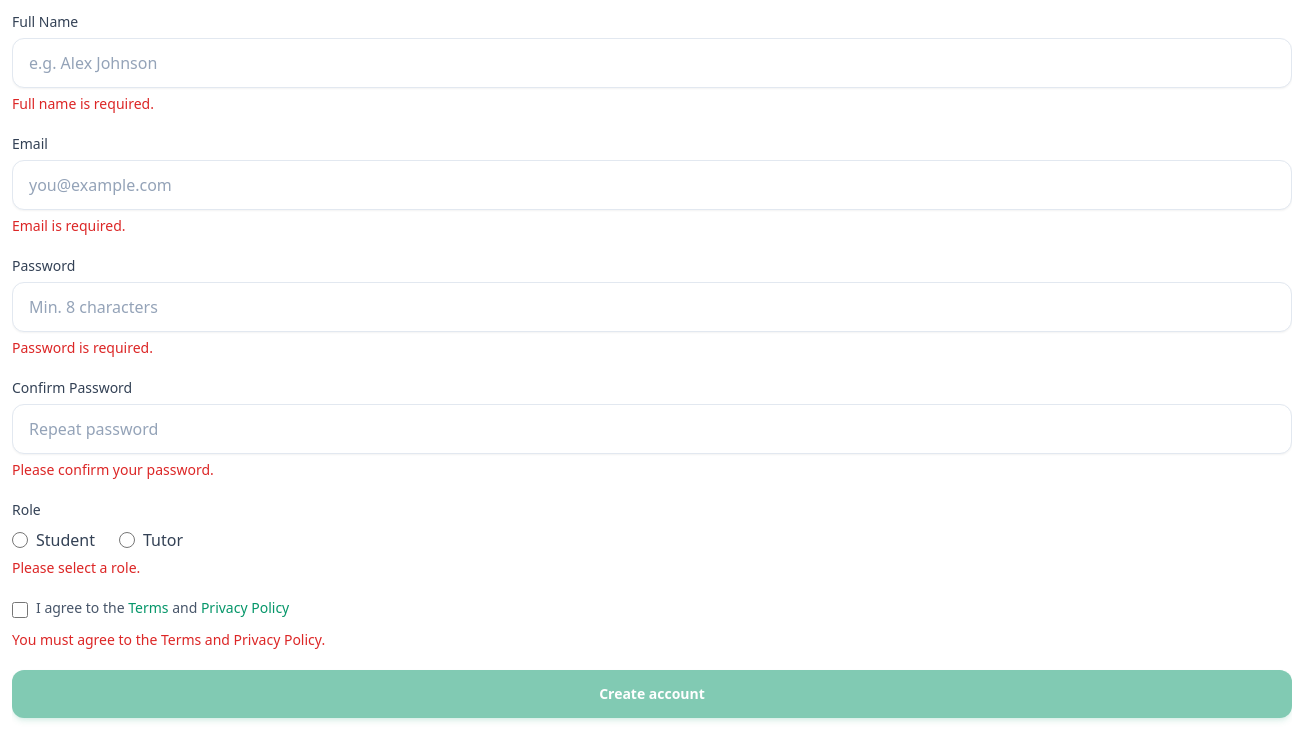
Test: RegisterForm › enables submit button when all fields are valid (FR1)
Type "Alice Student" into the field labelled "Full Name".
click(652, 63); type("Alice Student")  # box [12,38,1292,88]
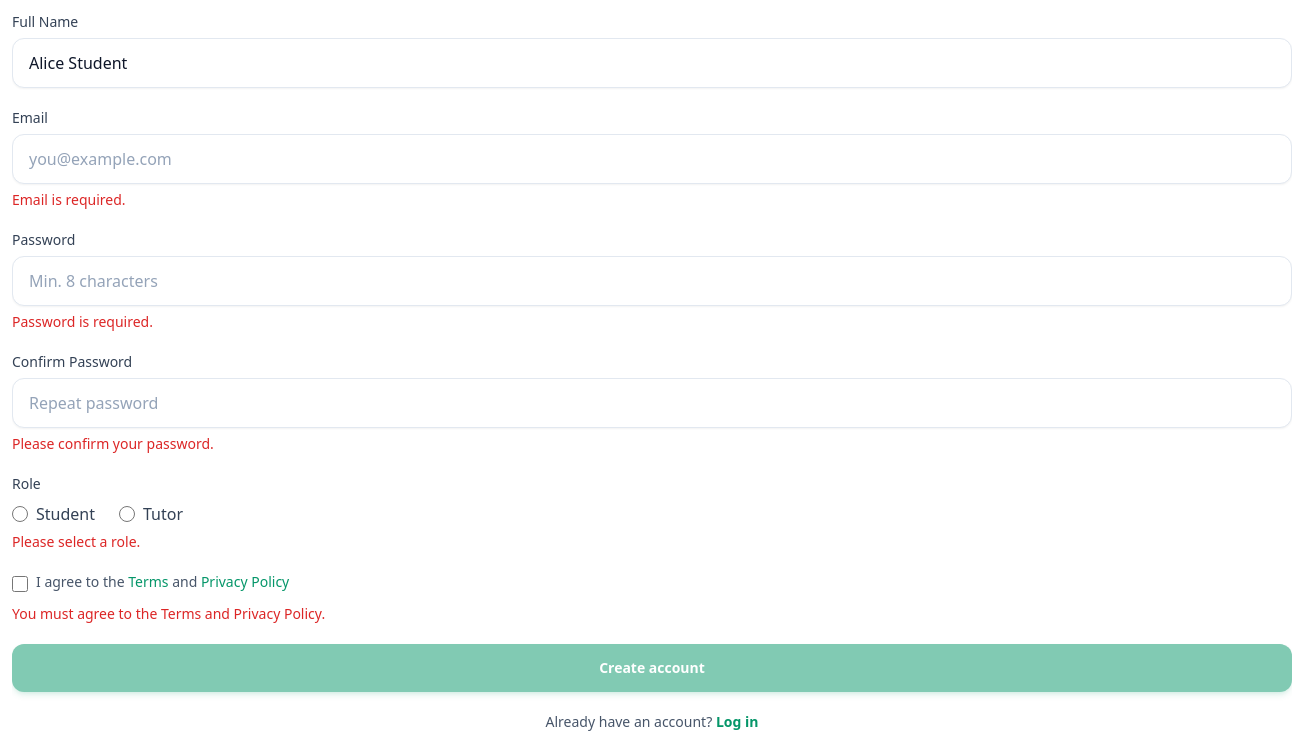
Type "alice@test.com" into the field labelled "Email".
click(652, 159); type("alice@test.com")  # box [12,134,1292,184]
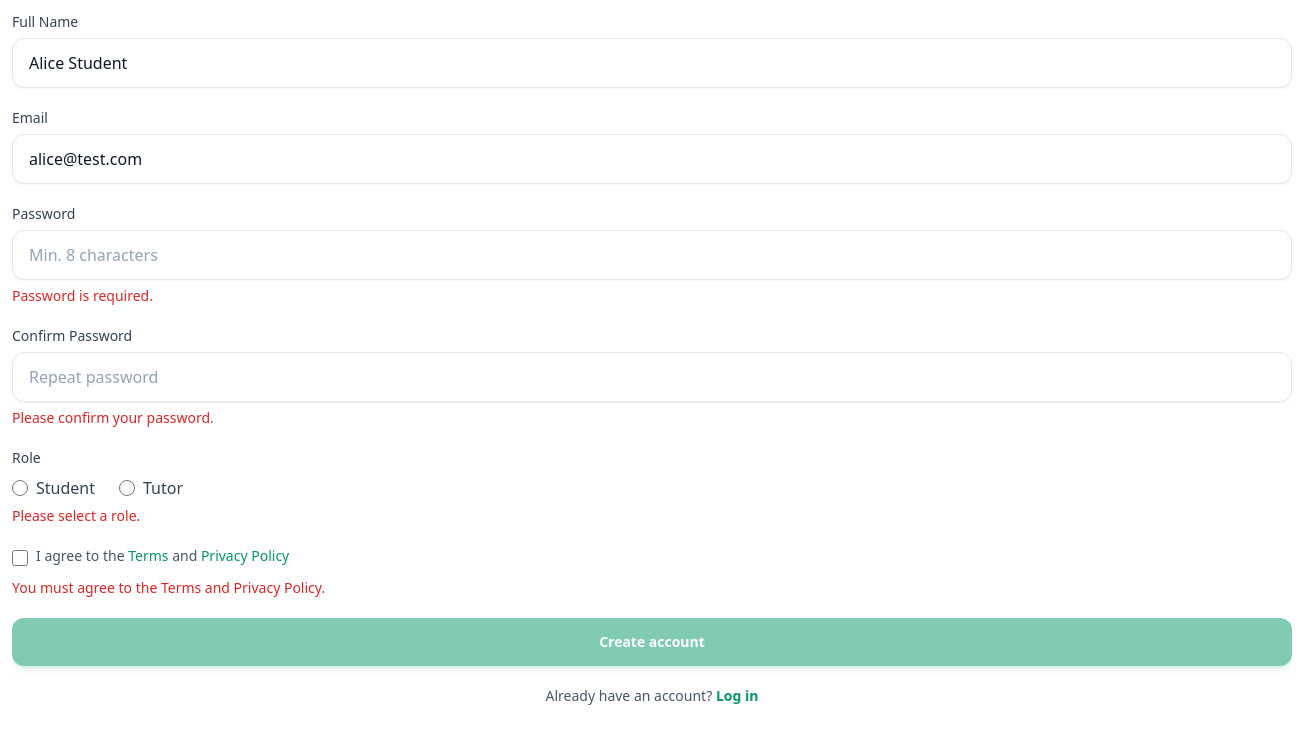
Type "securePass1" into the password field labelled "Password".
click(652, 255); type("securePass1")  # box [12,230,1292,280]
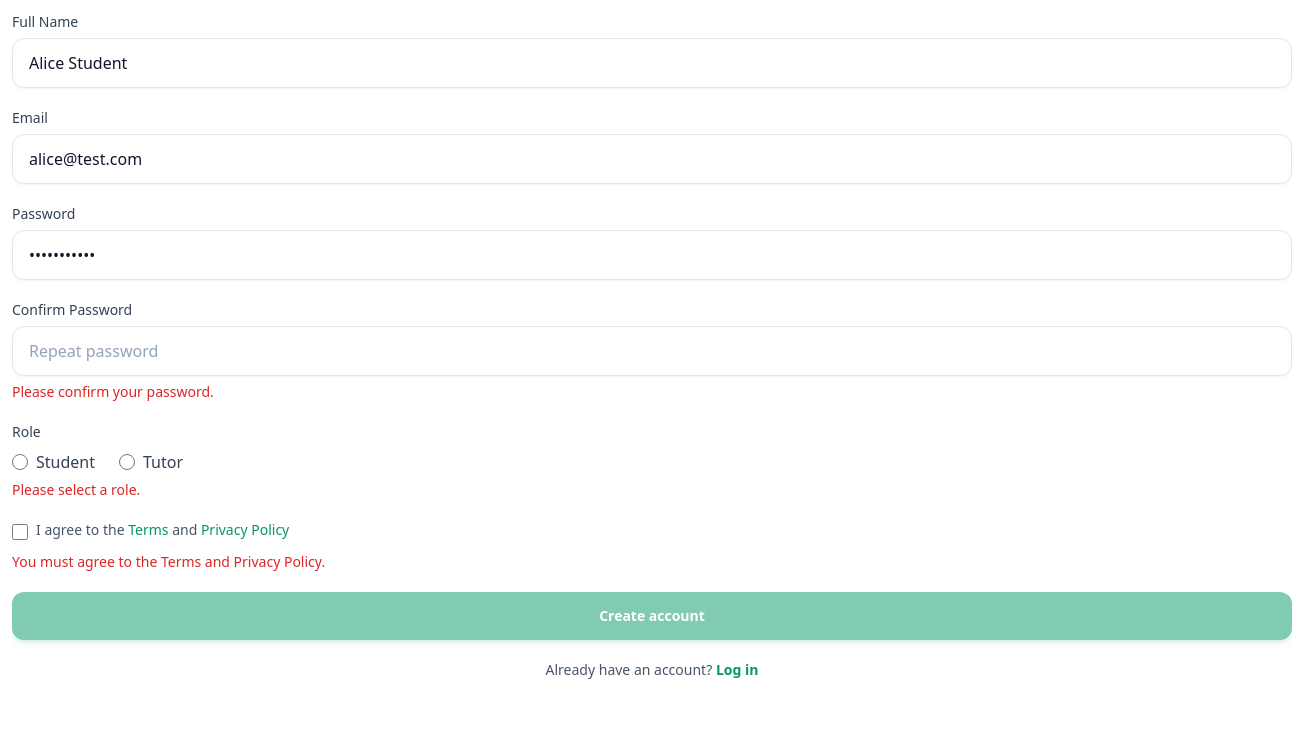
Type "securePass1" into the password field labelled "Confirm Password".
click(652, 351); type("securePass1")  # box [12,326,1292,376]
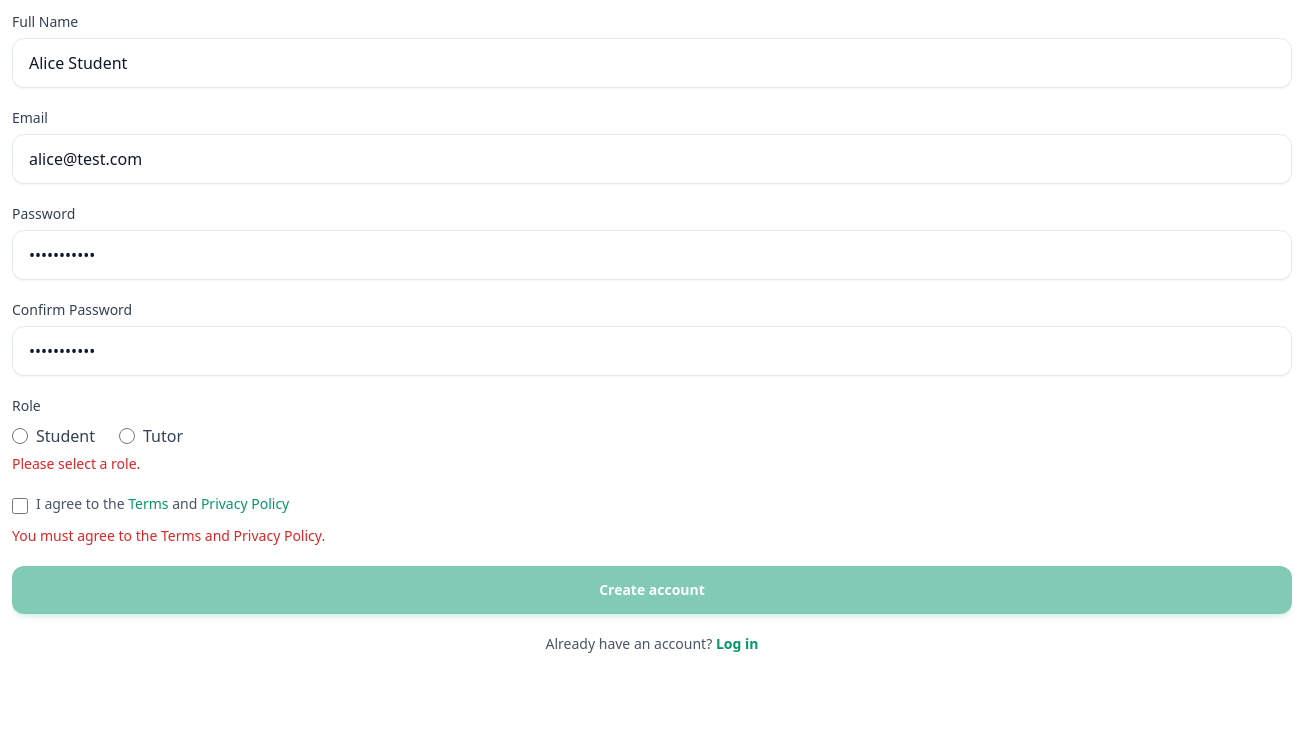
Click the radio button showing "student".
click(20, 436)  # box [12,428,28,444]
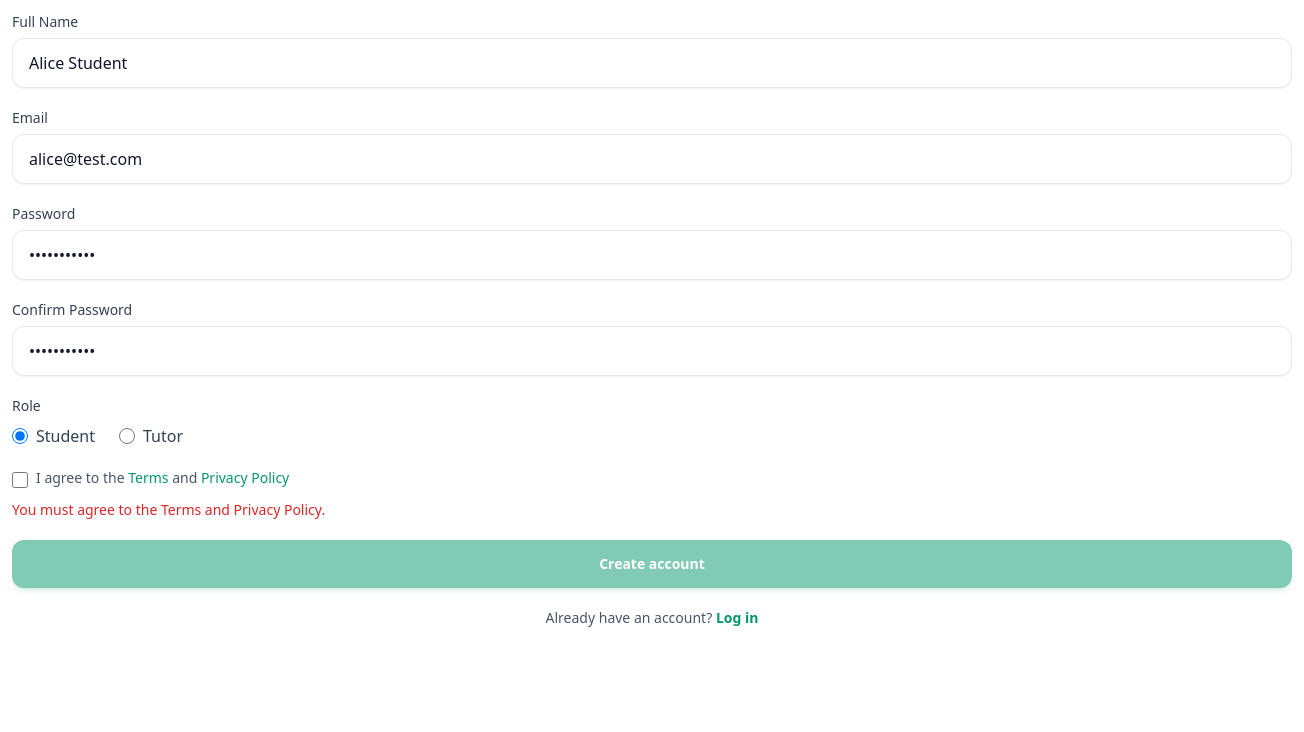
Click the checkbox.
click(20, 480)  # box [12,472,28,488]
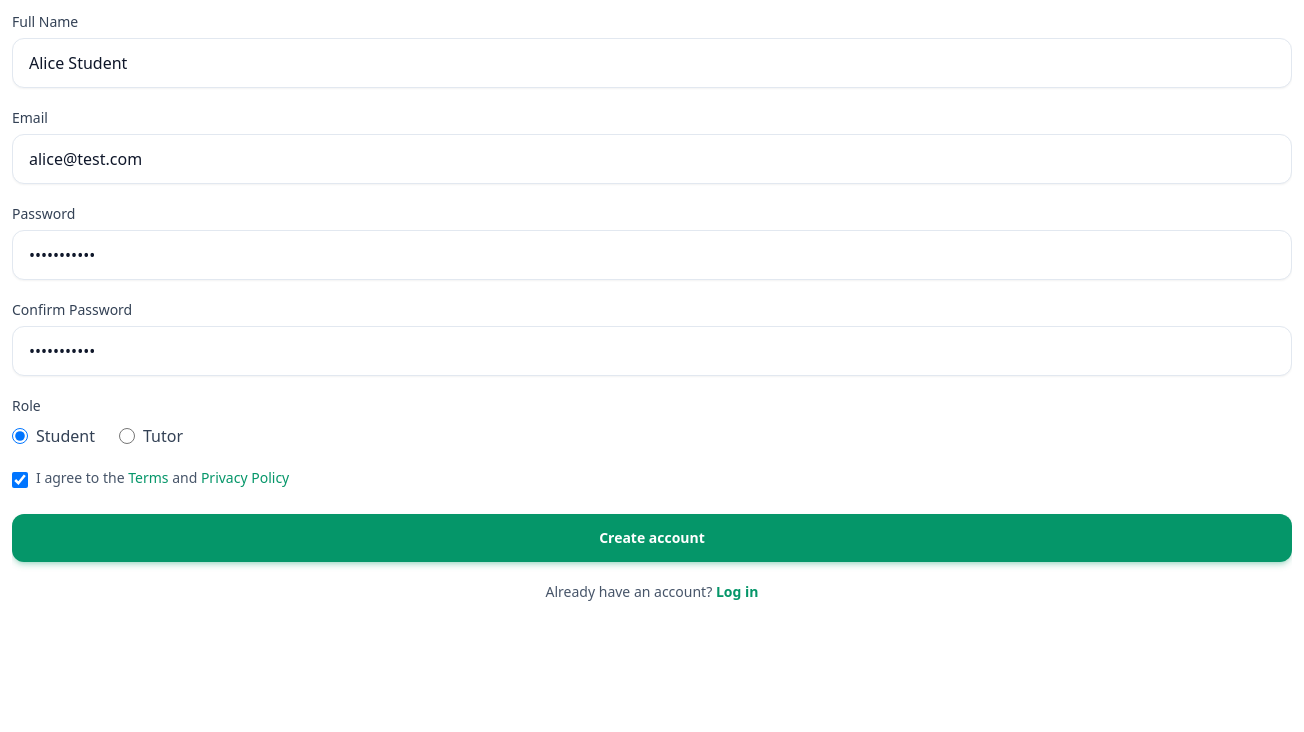
Check: the button "Create account" is enabled, box [12,514,1292,562]
